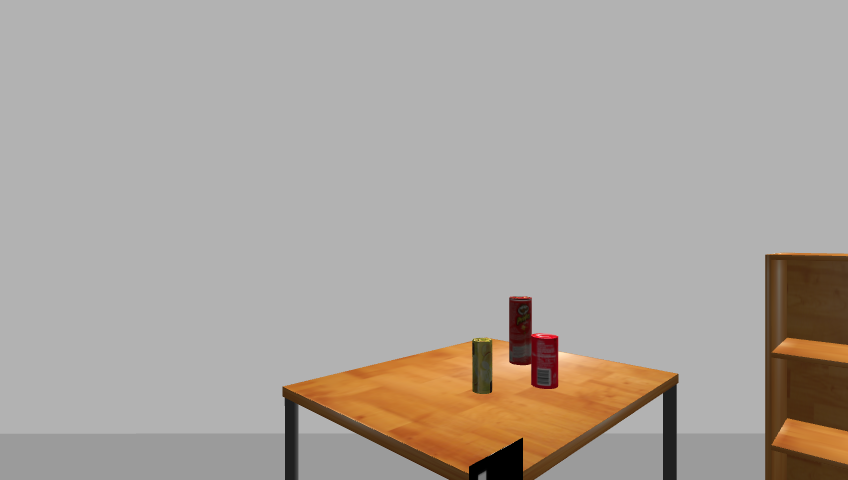aruco marker: (465, 438, 527, 480)
biscuits pack: (471, 337, 494, 395)
bookshelf: (760, 251, 848, 479)
coke can: (531, 334, 560, 389)
dinner table: (274, 339, 689, 479)
pringles can: (506, 295, 534, 366)
